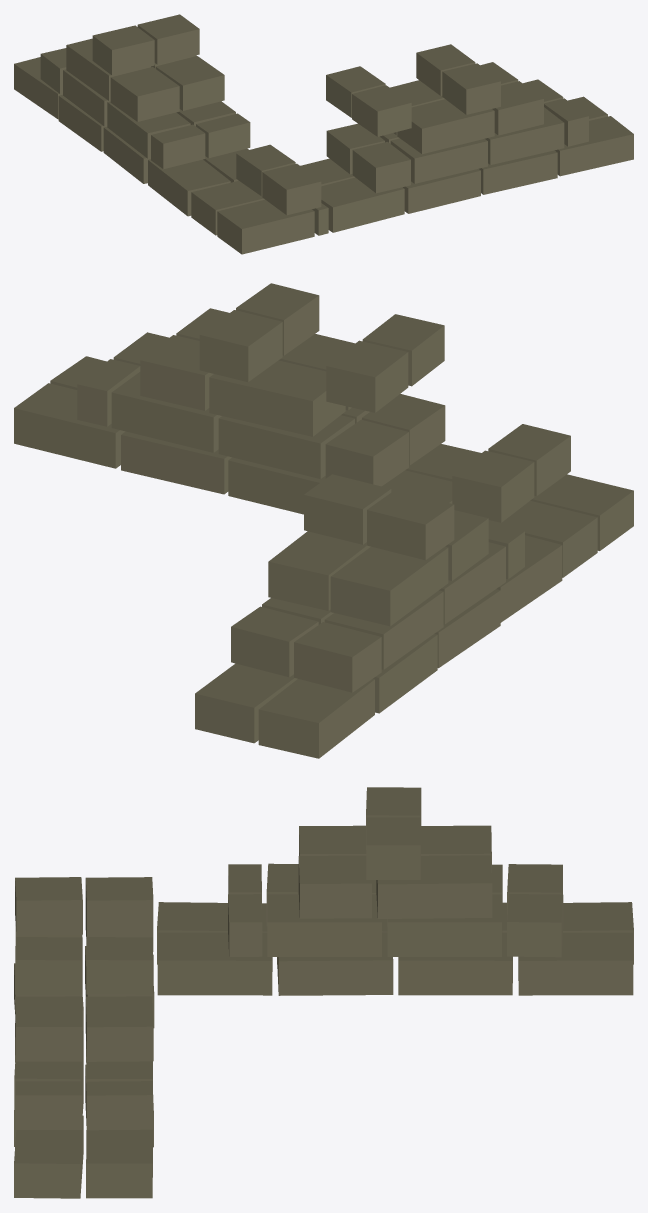
Rendered from SM_PretilEsquina_v1_Talud_e0_Sano_LOD0.fbx.
The picture shows the model from 3 angles, top to bottom: view 1: azimuth 30°, elevation 25°; view 2: azimuth 150°, elevation 25°; view 3: azimuth 270°, elevation 25°; orthographic projection. The views are drawn at different scales.
Parts seen in each view (by area): view 1: SM_pretil_azotea_v24_LOD0; view 2: SM_pretil_azotea_v24_LOD0; view 3: SM_pretil_azotea_v24_LOD0.
Boxes of the visible parts, <box> form: SM_pretil_azotea_v24_LOD0: <box>14,14,633,254</box>; SM_pretil_azotea_v24_LOD0: <box>14,283,633,758</box>; SM_pretil_azotea_v24_LOD0: <box>14,787,633,1198</box>.
Bounding box in the file's own units: 4.38 × 1.17 × 4.38.
